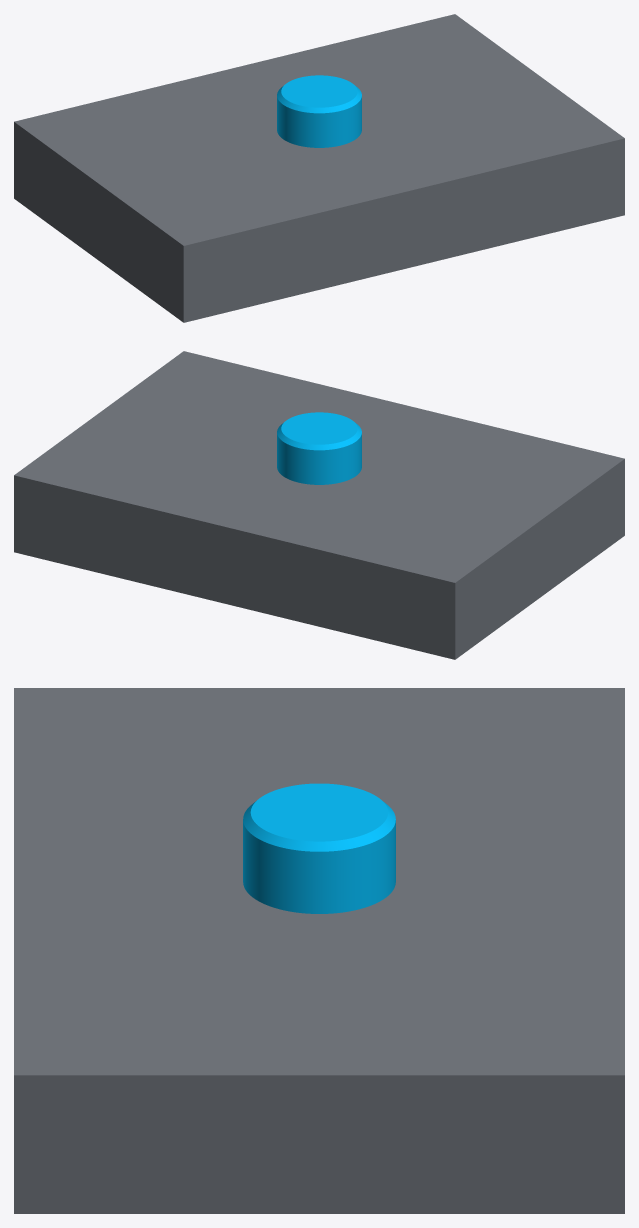
The model's file is plaka_pim_montaji.gltf.
3 renders of one model, top to bottom at view 1: azimuth 30°, elevation 25°; view 2: azimuth 150°, elevation 25°; view 3: azimuth 270°, elevation 25°, orthographic. The views are drawn at different scales.
Parts seen in each view (by area): view 1: Open CASCADE STEP translator 7.8 3.1, Open CASCADE STEP translator 7.8 3.2; view 2: Open CASCADE STEP translator 7.8 3.1, Open CASCADE STEP translator 7.8 3.2; view 3: Open CASCADE STEP translator 7.8 3.1, Open CASCADE STEP translator 7.8 3.2.
Part boxes in pixels (x1,y1,x2,y2): Open CASCADE STEP translator 7.8 3.1: (14, 14, 624, 322); Open CASCADE STEP translator 7.8 3.2: (277, 75, 361, 147); Open CASCADE STEP translator 7.8 3.1: (14, 351, 624, 659); Open CASCADE STEP translator 7.8 3.2: (277, 412, 361, 484); Open CASCADE STEP translator 7.8 3.1: (14, 688, 624, 1213); Open CASCADE STEP translator 7.8 3.2: (243, 783, 395, 913).
Bounding box in the file's own units: 0.06 × 0.02 × 0.04.
